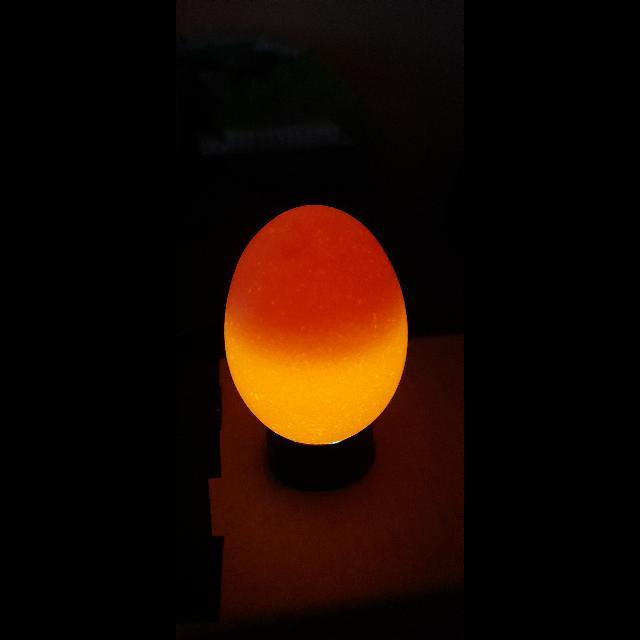Fertile: (221, 190, 411, 458)
